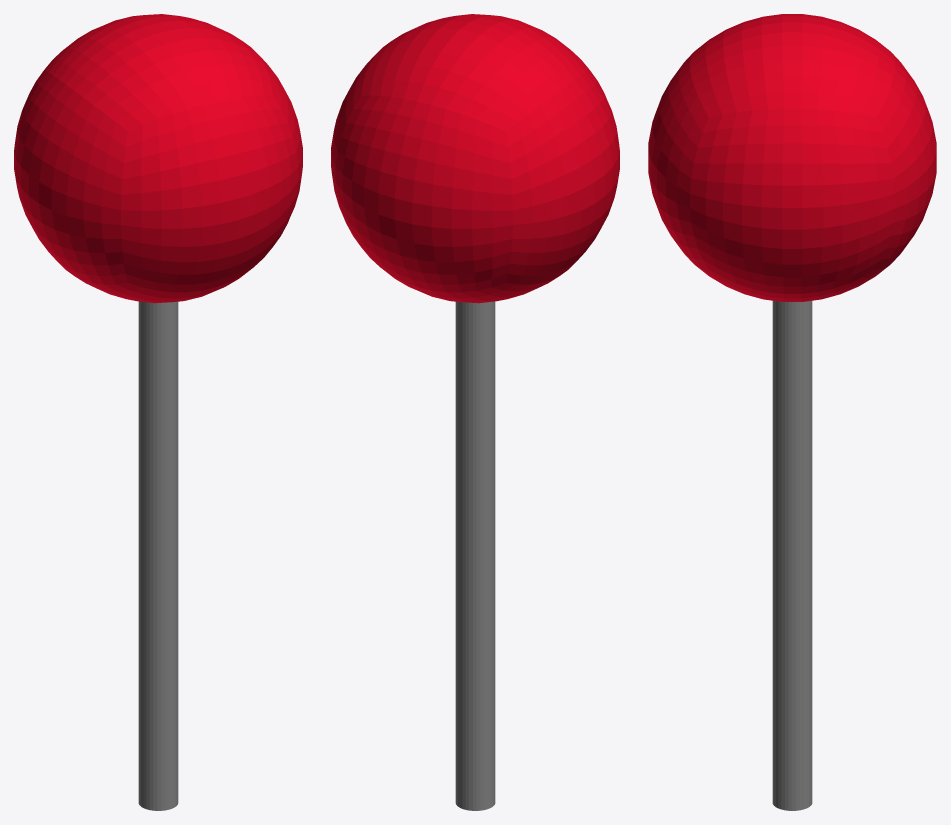
The model's file is stecknadel.glb.
The picture shows the model from 3 angles, left to right: view 1: azimuth 30°, elevation 25°; view 2: azimuth 150°, elevation 25°; view 3: azimuth 270°, elevation 25°; orthographic projection.
Visible parts, largest first — view 1: Zylinder; view 2: Zylinder; view 3: Zylinder.
Boxes of the visible parts, box(x1,y1,x2,y2) form: Zylinder: box(14, 14, 302, 810); Zylinder: box(331, 14, 619, 810); Zylinder: box(648, 14, 936, 810).
Size of the model in its own units: 3.44 by 10.22 by 3.44.
